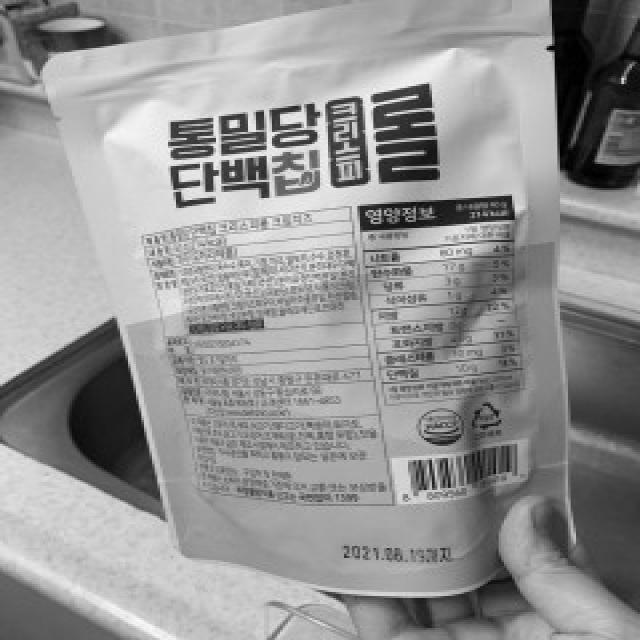Nutrition Label: (350, 191, 538, 410)
